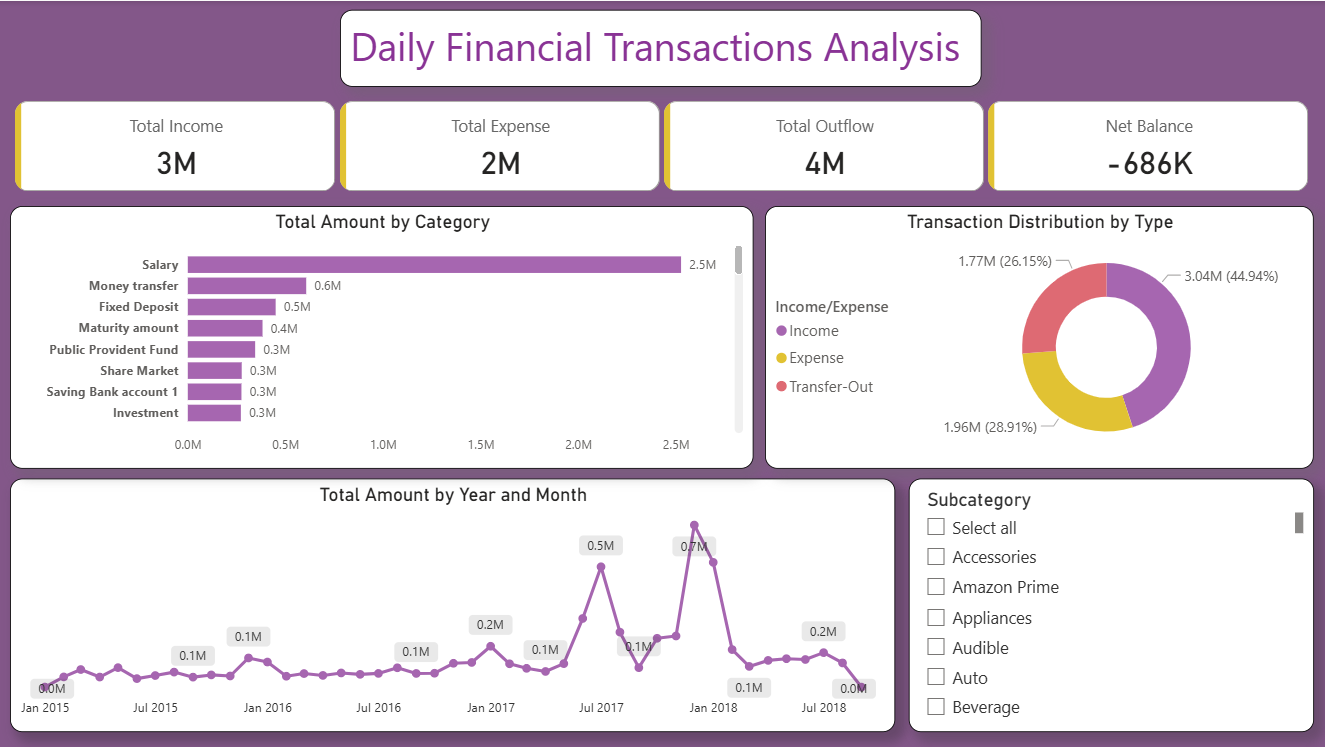

Layout of this report page (visuals, bound fields, positions):
{"tool":"powerbi","page":{"name":"Page 1","canvas":[1280,720],"ordinal":0},"visuals":[{"type":"textbox","box":[328.2,8.4,618.9,74.8],"z":0},{"type":"lineChart","fields":{"Y":["Daily Household Transactions.Total Amount"],"Category":["Daily Household Transactions.Date.Variation.Date Hierarchy.Year","Daily Household Transactions.Date.Variation.Date Hierarchy.Month"]},"box":[9.7,460.9,854.2,244.9],"z":1000},{"type":"clusteredBarChart","fields":{"Category":["Daily Household Transactions.Category"],"Y":["Daily Household Transactions.Total Amount"]},"box":[9.7,197.9,717.8,253.4],"z":2000},{"type":"cardVisual","fields":{"Data":["Daily Household Transactions.Total Income","Daily Household Transactions.Total Expense","Daily Household Transactions.Total Outflow","Daily Household Transactions.Net Balance"]},"box":[9.7,91.7,1258.3,97.7],"z":3000},{"type":"donutChart","title":"Transaction Distribution by Type","fields":{"Y":["Daily Household Transactions.Total Amount"],"Category":["Daily Household Transactions.Income/Expense"]},"box":[738.3,197.9,529.6,253.4],"z":4000},{"type":"slicer","fields":{"Values":["Daily Household Transactions.Subcategory"]},"box":[877.1,460.9,390.9,244.9],"z":5000}]}

Visuals, with their boxes in screenshot pixels (x1, y1, x2, y2), scaled from the page's 1280x720 canvas onto the 1325x747 screenshot:
textbox: BBox(340, 9, 980, 86)
lineChart - Daily Household Transactions.Total Amount x Daily Household Transactions.Date.Variation.Date Hierarchy.Year: BBox(10, 478, 894, 732)
clusteredBarChart - Daily Household Transactions.Category x Daily Household Transactions.Total Amount: BBox(10, 205, 753, 468)
cardVisual - Daily Household Transactions.Total Income x Daily Household Transactions.Total Expense: BBox(10, 95, 1313, 197)
"Transaction Distribution by Type" donutChart: BBox(764, 205, 1312, 468)
slicer - Daily Household Transactions.Subcategory: BBox(908, 478, 1313, 732)
